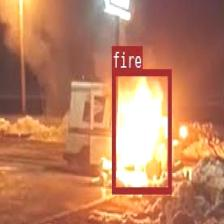fire: (112, 69, 171, 192)
